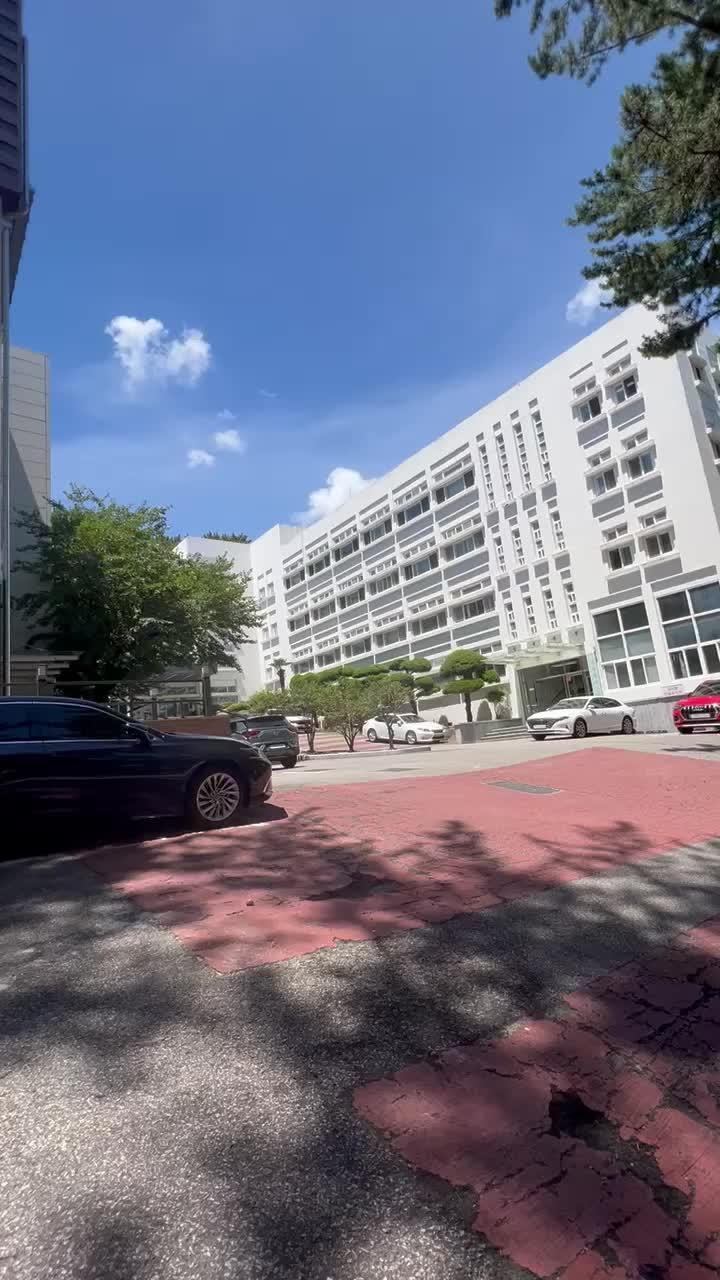building: (224, 302, 716, 668)
